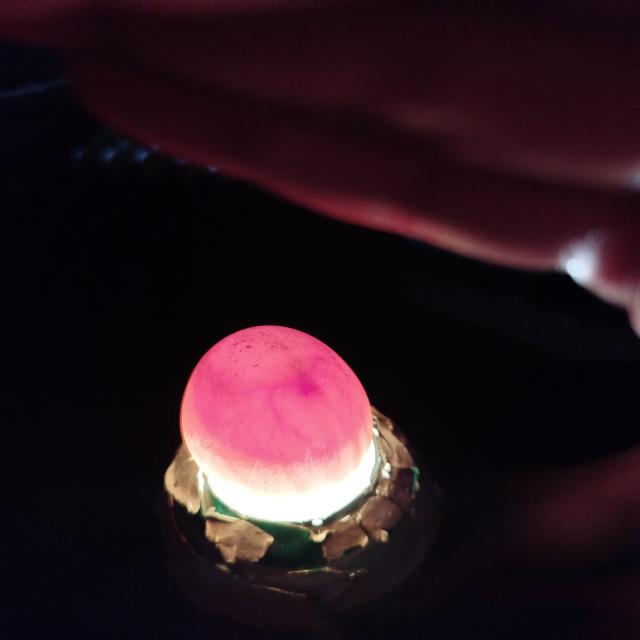Gema Quebrada: (192, 325, 367, 464)
